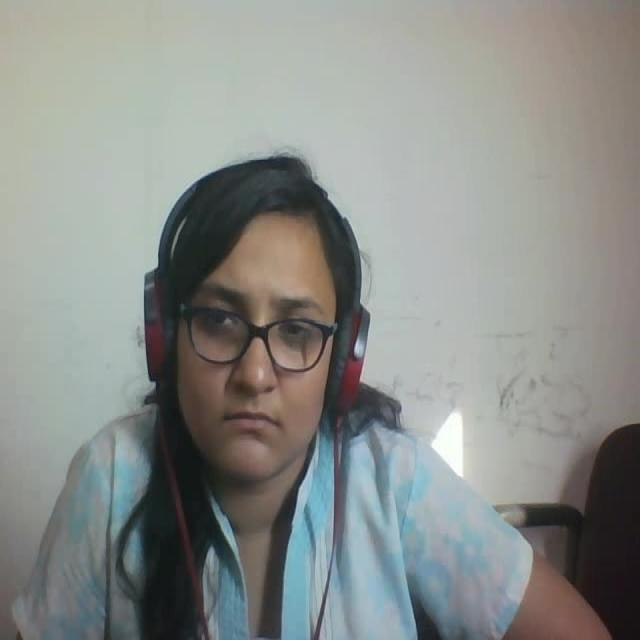Engaged: (136, 131, 388, 503)
